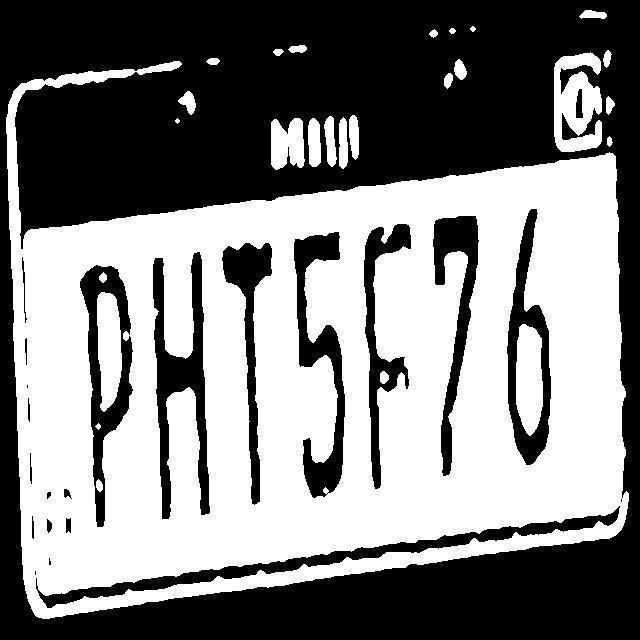5: (288, 228, 356, 516)
6: (499, 195, 566, 468)
7: (431, 198, 498, 482)
f: (358, 207, 426, 498)
h: (143, 253, 222, 534)
p: (76, 260, 138, 554)
t: (220, 242, 282, 514)
